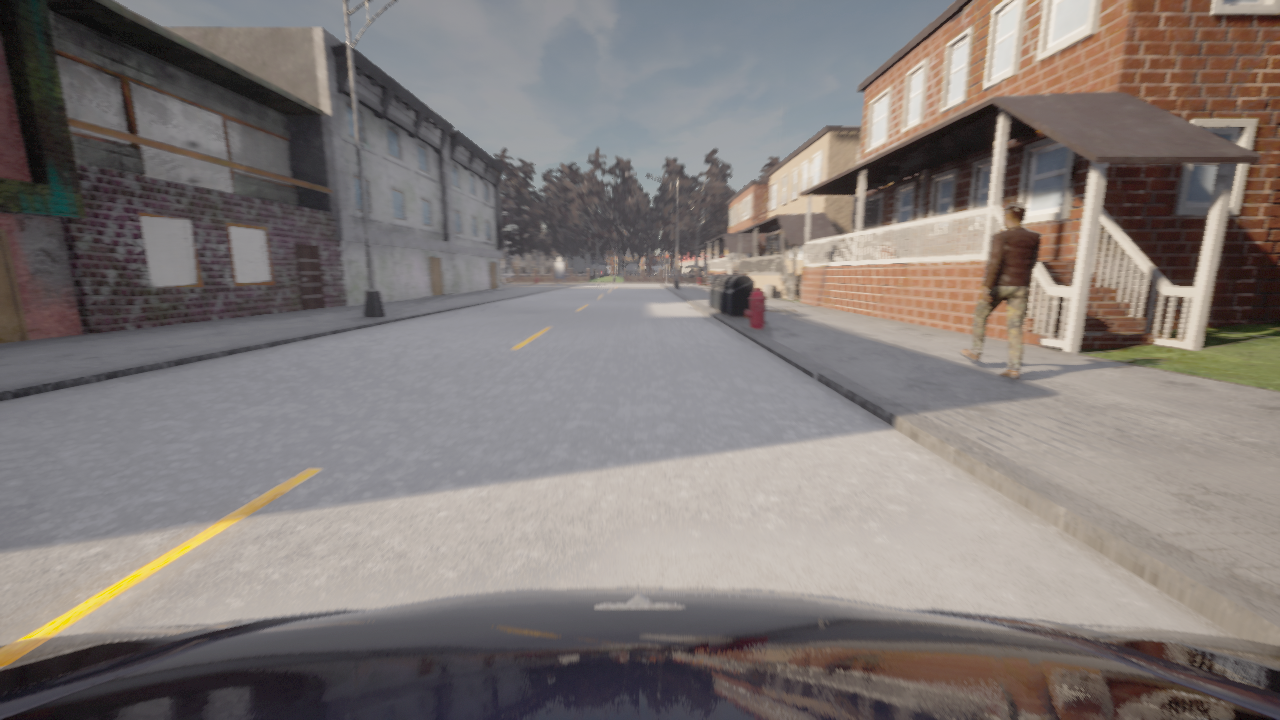cyclist: (0, 588, 1279, 719)
pedestrian: (960, 201, 1041, 379), (709, 273, 712, 280)
